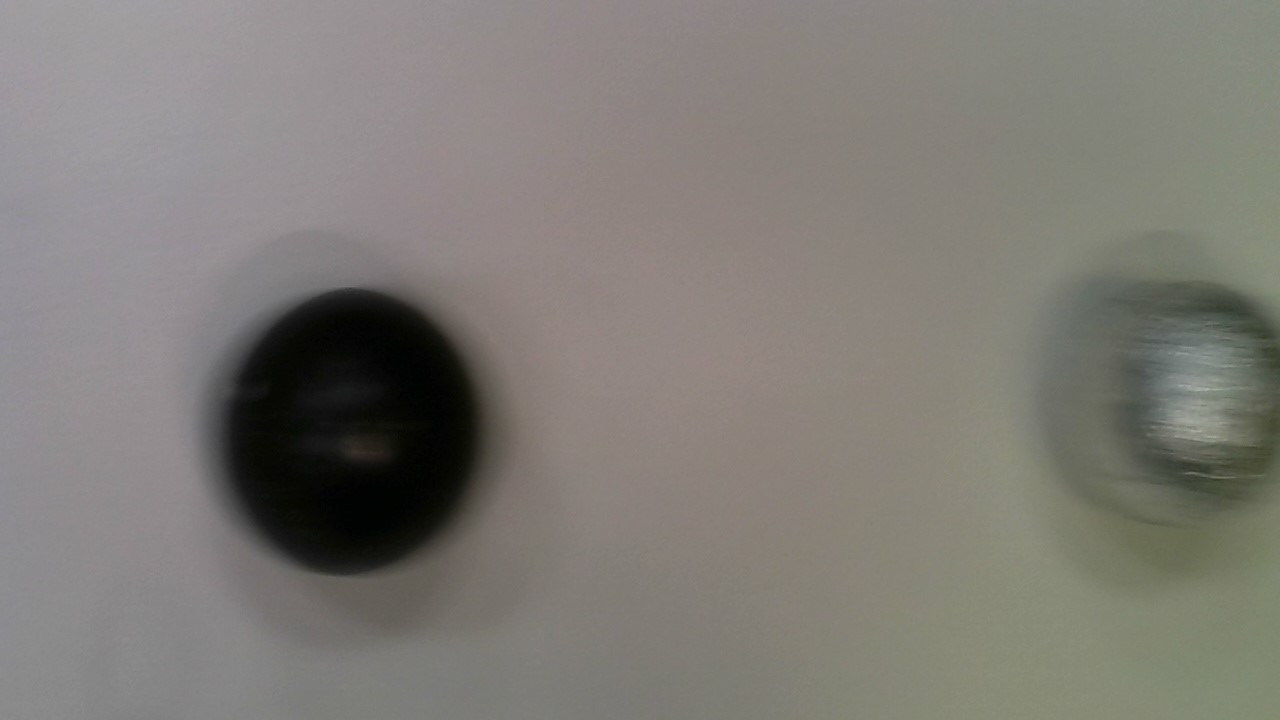black_ball: (198, 280, 505, 586)
silver_ball: (1040, 261, 1280, 528)
